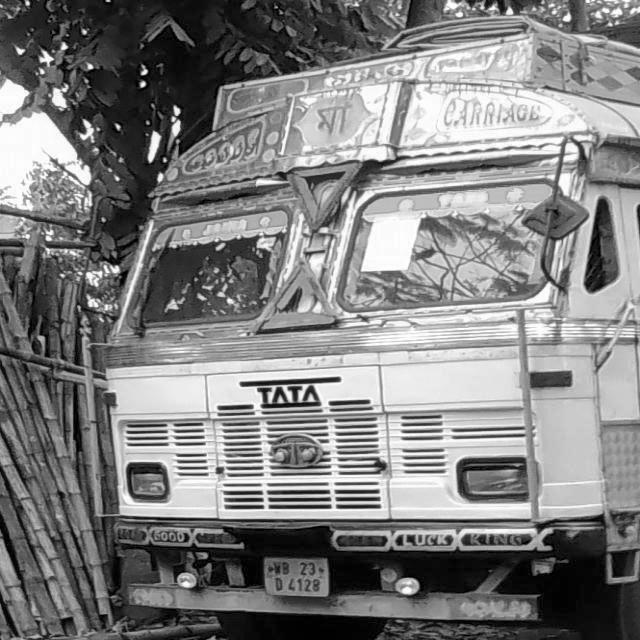HCV: (114, 63, 640, 640)
